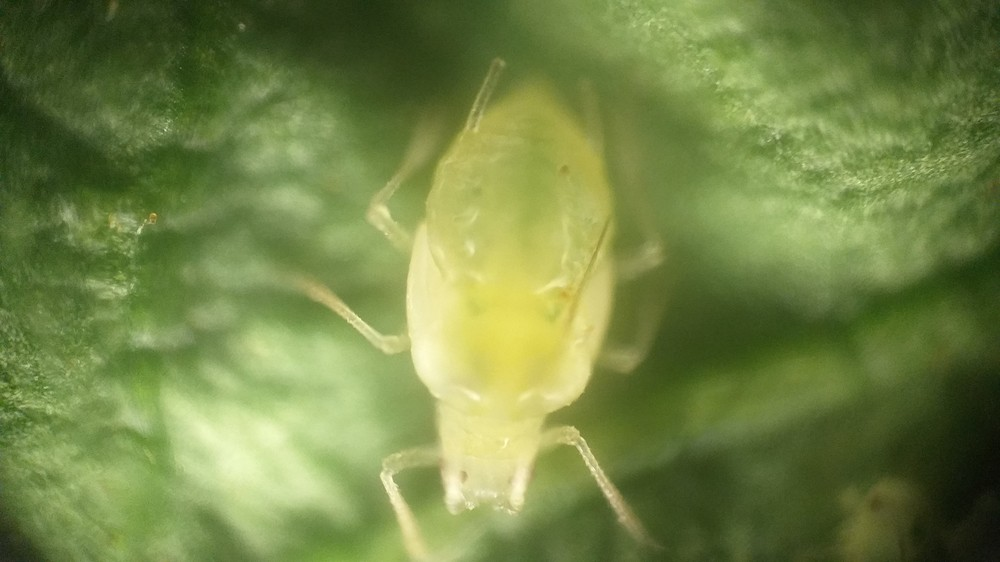Pulgon: (293, 58, 683, 556)
